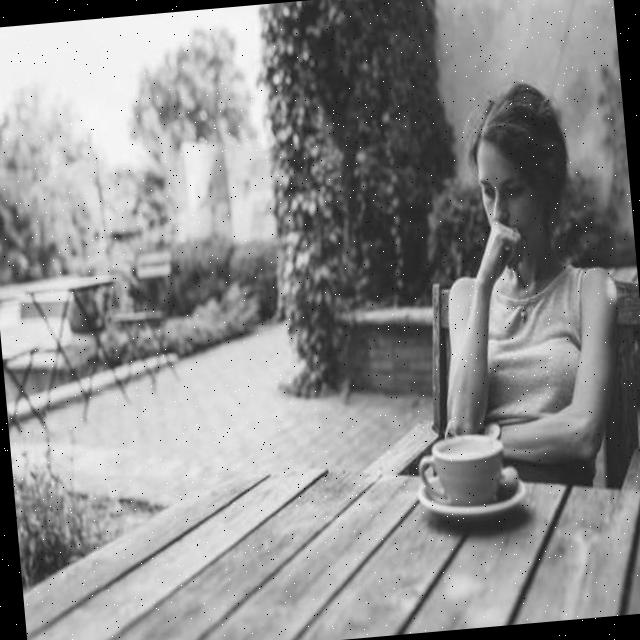Sadness: (472, 136, 541, 269)
